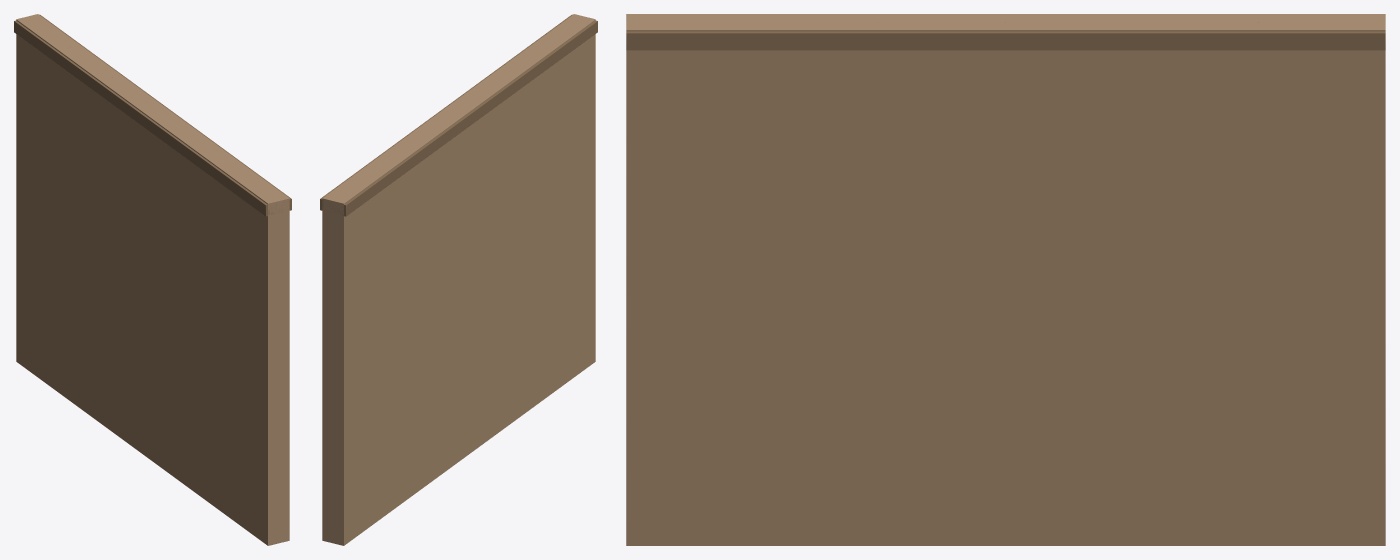
Rendered from SM_BLD_WALL_WOOD.fbx.
The picture shows the model from 3 angles, left to right: view 1: azimuth 30°, elevation 25°; view 2: azimuth 150°, elevation 25°; view 3: azimuth 270°, elevation 25°; orthographic projection. The views are drawn at different scales.
Visible parts, largest first — view 1: SM_BLD_WALL_WOOD; view 2: SM_BLD_WALL_WOOD; view 3: SM_BLD_WALL_WOOD.
Part boxes in pixels (box(x1,y1,x2,y2)): SM_BLD_WALL_WOOD: box(14, 14, 291, 545); SM_BLD_WALL_WOOD: box(320, 14, 597, 545); SM_BLD_WALL_WOOD: box(626, 14, 1385, 545).
Size of what is drawn, in the model's own units: 0.24 by 3 by 4.
